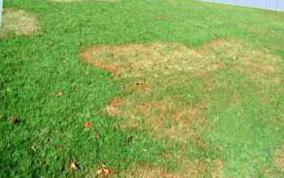patch: (88, 41, 198, 76), (115, 98, 201, 138), (209, 45, 273, 87), (1, 9, 38, 33)
